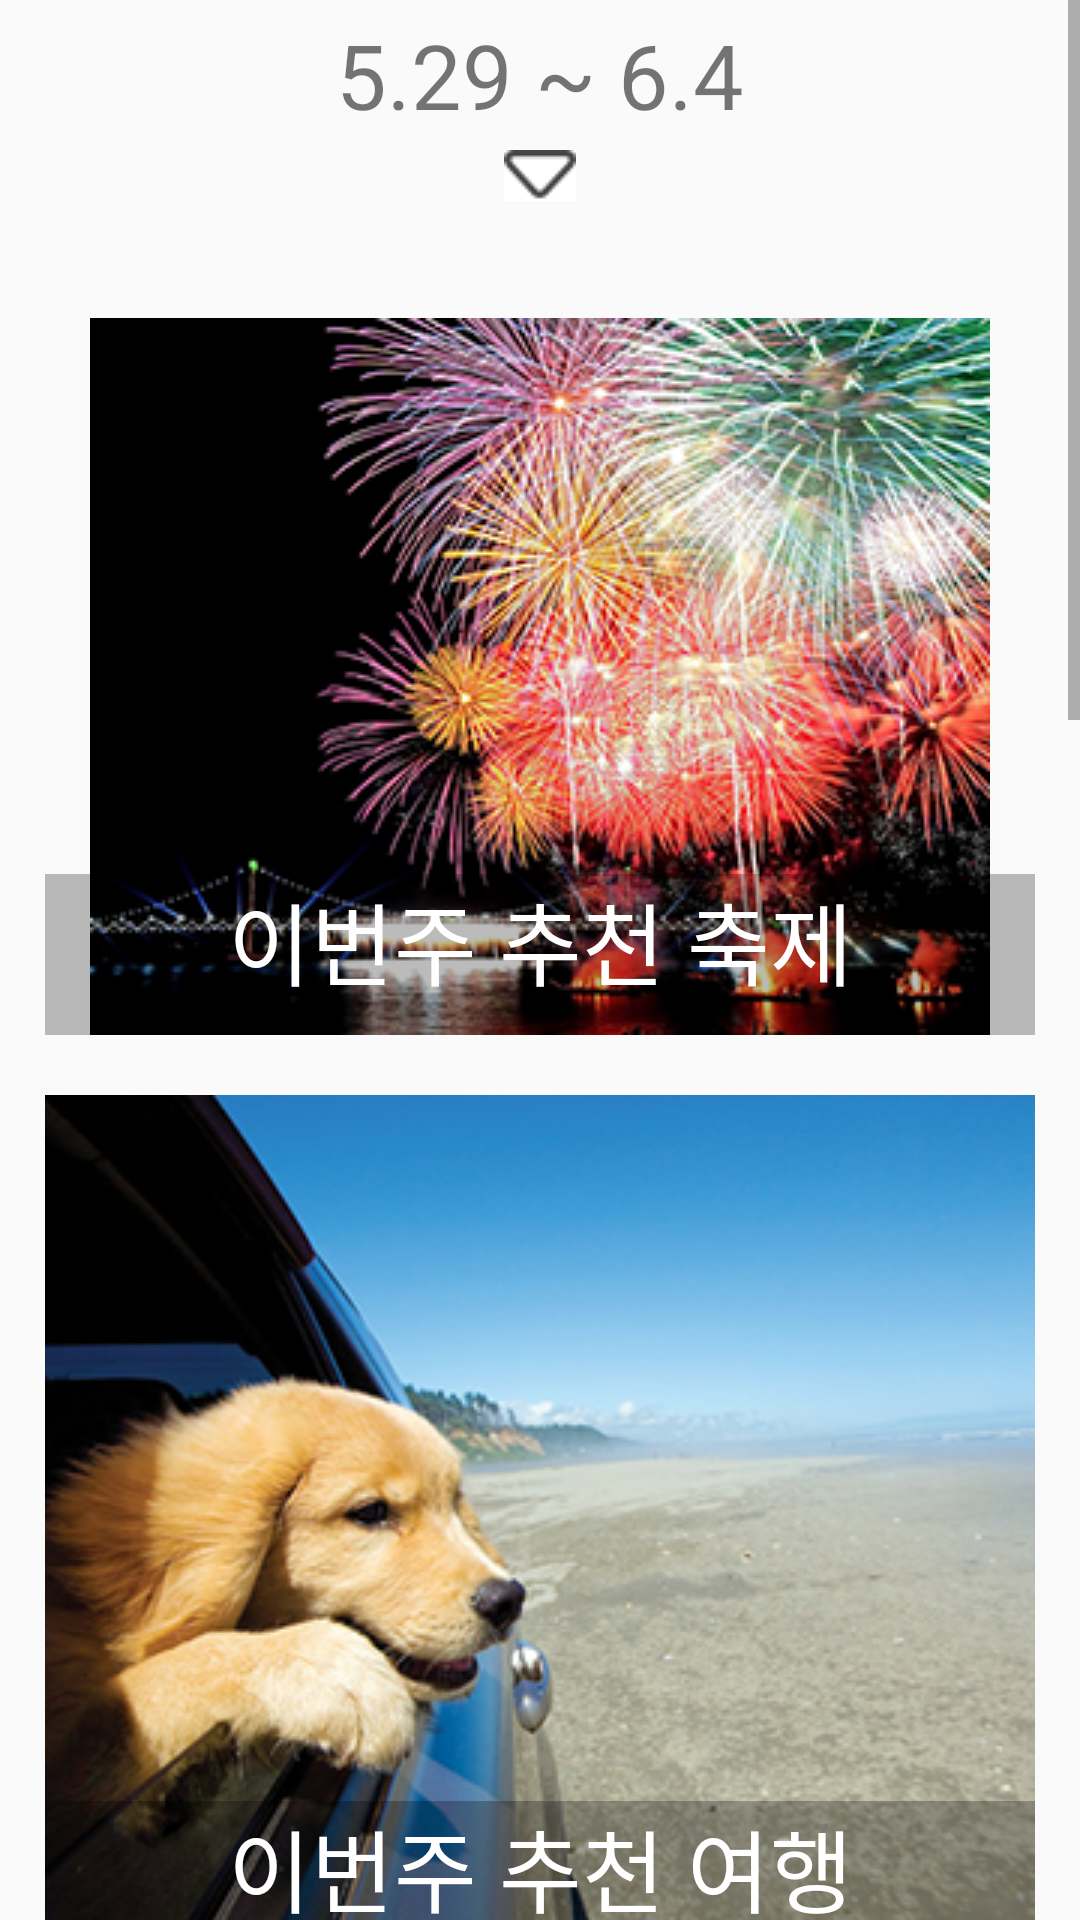

Icon bounding boxes for this 1080px×1920px phone screenshot, format bbox=(x1, y1, x2, y2):
bottom: bbox=(504, 150, 576, 199)
